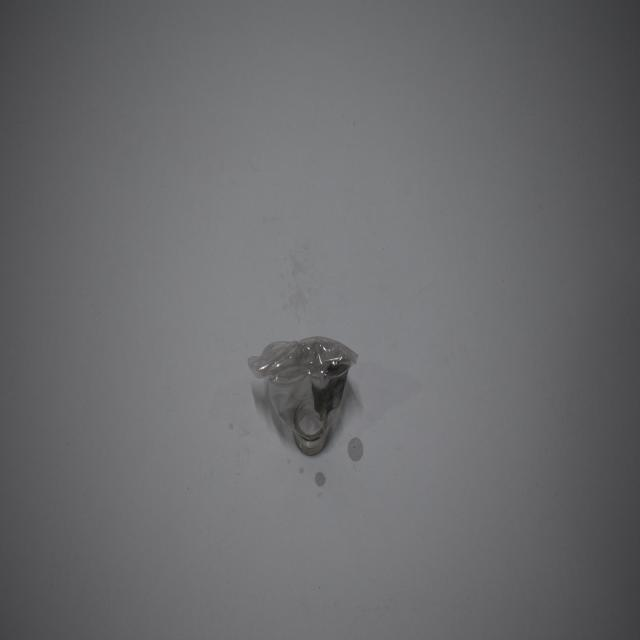bottle: (244, 328, 360, 461)
